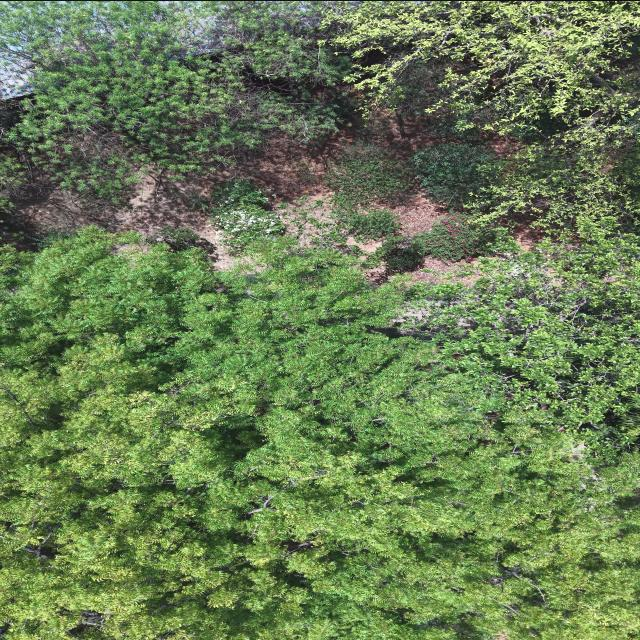DRY_AREA: (19, 110, 447, 268), (20, 174, 238, 269), (21, 174, 238, 269), (237, 108, 455, 199), (242, 110, 441, 199), (393, 194, 448, 235)
VEGETATION_TREE: (0, 1, 639, 639), (0, 229, 639, 639), (3, 1, 638, 230), (329, 1, 639, 232), (2, 1, 349, 199), (409, 230, 638, 467), (328, 1, 639, 131), (465, 116, 639, 232), (324, 143, 415, 237), (371, 209, 499, 271), (191, 179, 284, 253), (412, 142, 494, 204), (413, 210, 494, 259)
